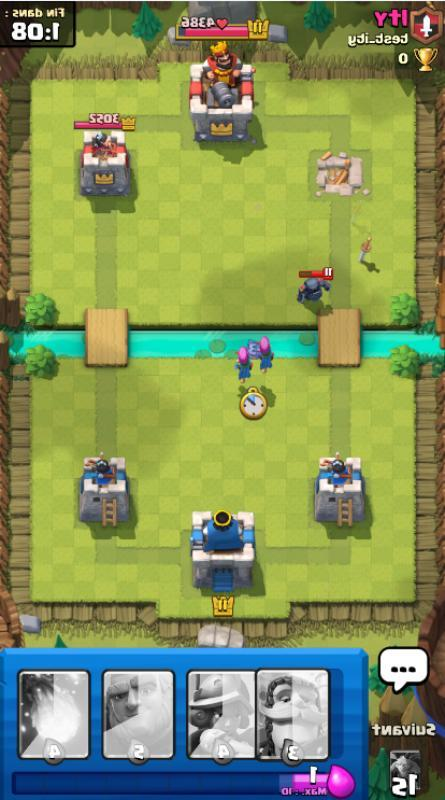archere: (254, 334, 276, 374), (233, 345, 254, 386)
mini_PEKKA: (296, 266, 334, 304)
